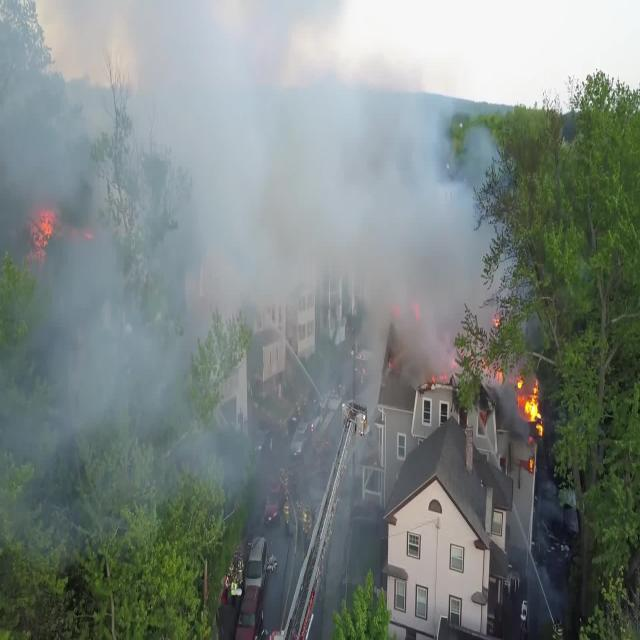Fire: (411, 293, 548, 462), (30, 199, 95, 283)
Smoke: (122, 0, 521, 366), (0, 0, 213, 479)
